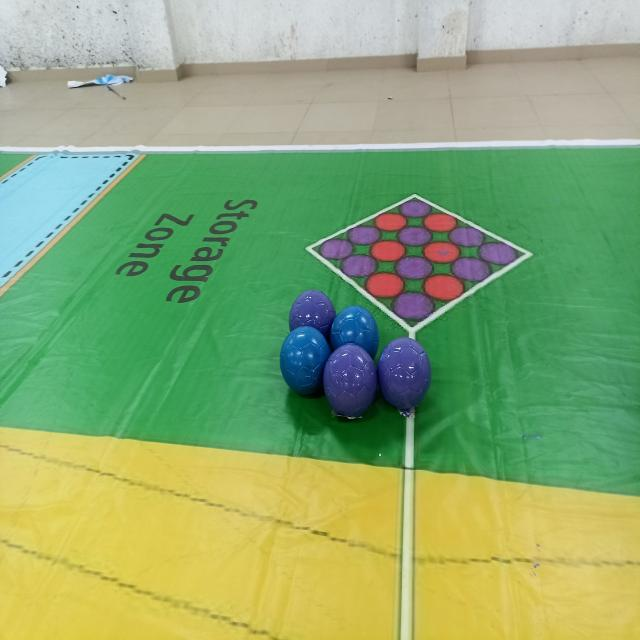blue_ball: (277, 324, 332, 396), (328, 304, 380, 363)
purple_ball: (320, 346, 380, 422), (375, 338, 435, 411), (287, 286, 336, 342)
